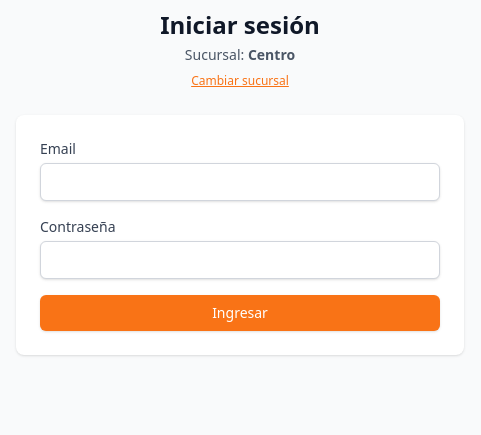
it: LoginPage › invalid credentials show Spanish error message
The width and height of the screenshot is (481, 435).
Type "bad@demo.com" into the field labelled "Email" at (240, 182), box x1=40 y1=163 x2=440 y2=201
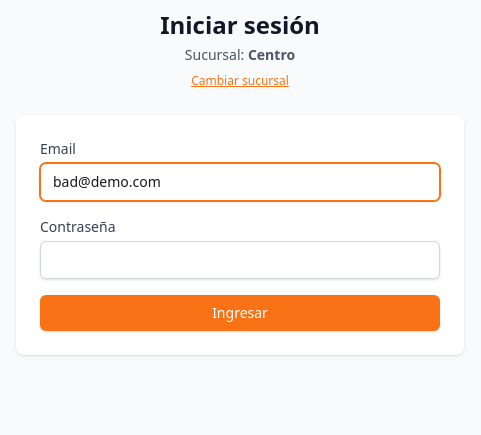
Type "wrong" into the password field labelled "Contraseña" at (240, 260), box x1=40 y1=241 x2=440 y2=279
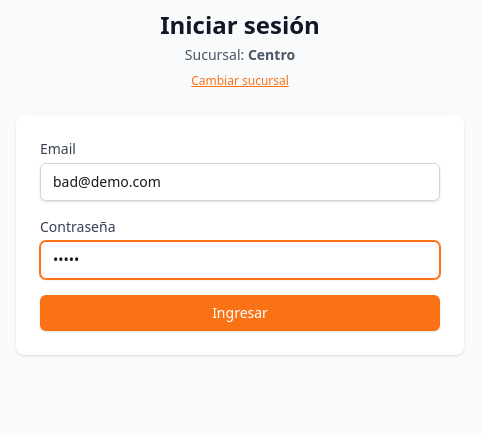
Click the button "Ingresar" at (240, 313), box x1=40 y1=295 x2=440 y2=331
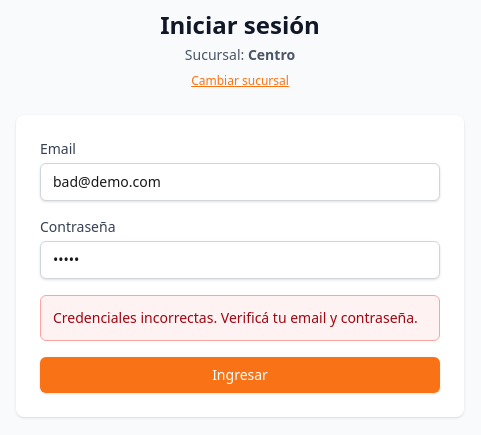
Expected: the text "Credenciales incorrectas. Verificá tu email y contraseña." is shown, x1=40 y1=295 x2=440 y2=341
